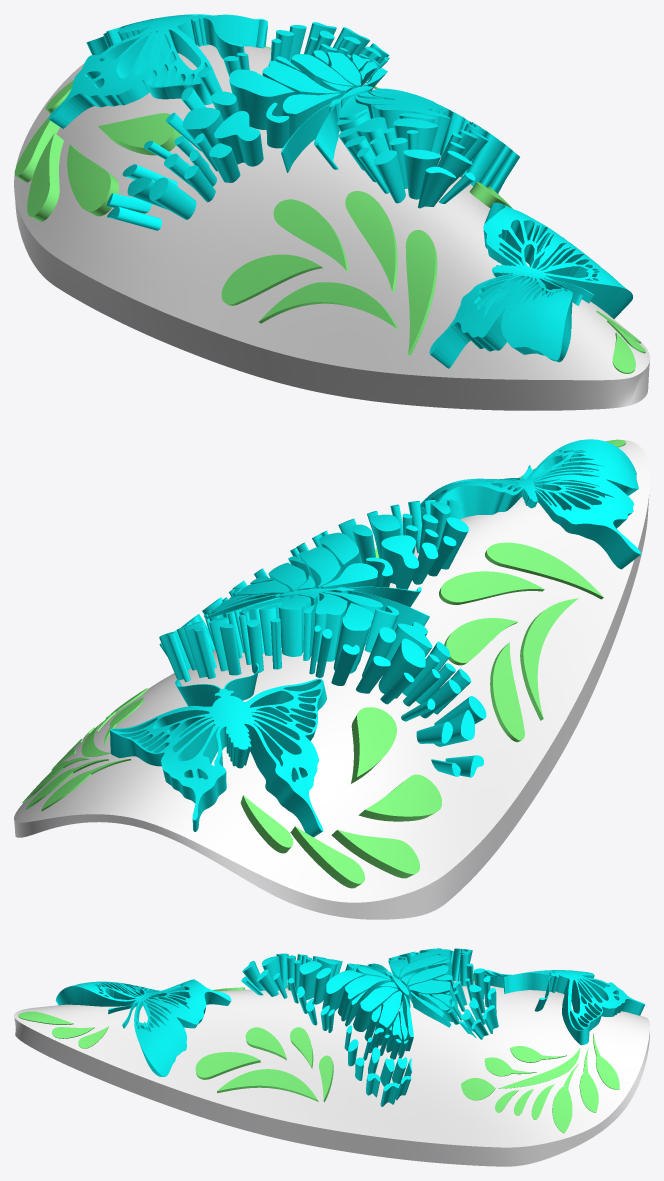
File: butterfly-cove-stiletto-full.glb
3 views of the same model, one above another, from view 1: azimuth 30°, elevation 25°; view 2: azimuth 150°, elevation 25°; view 3: azimuth 270°, elevation 25° (orthographic). The views are drawn at different scales.
Bounding box in the file's own units: 0.0139 × 0.0075 × 0.0301.
